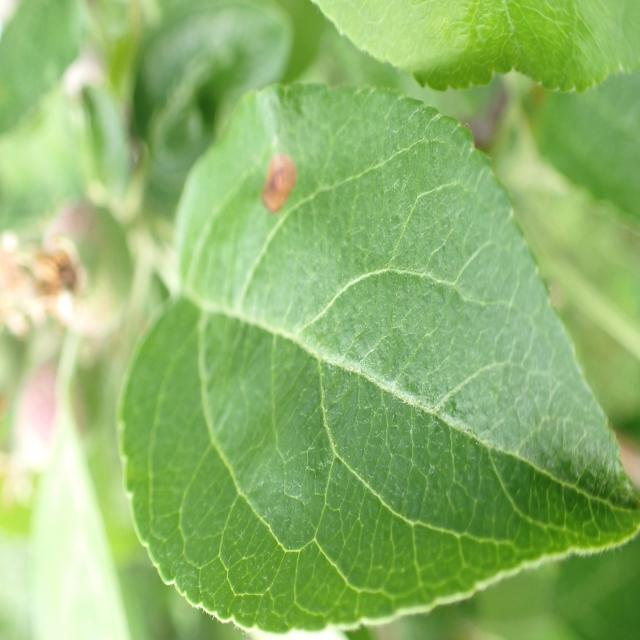frog-eye-leaf-spot: (118, 81, 640, 640)
